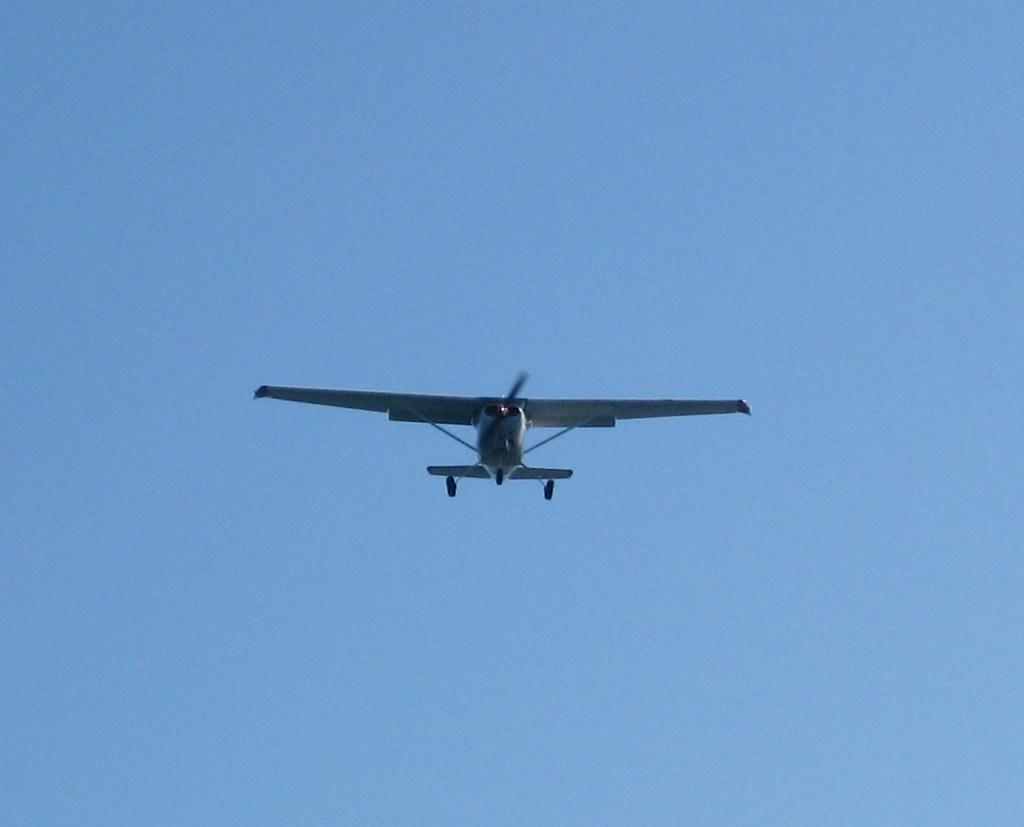plane: (252, 370, 752, 502)
